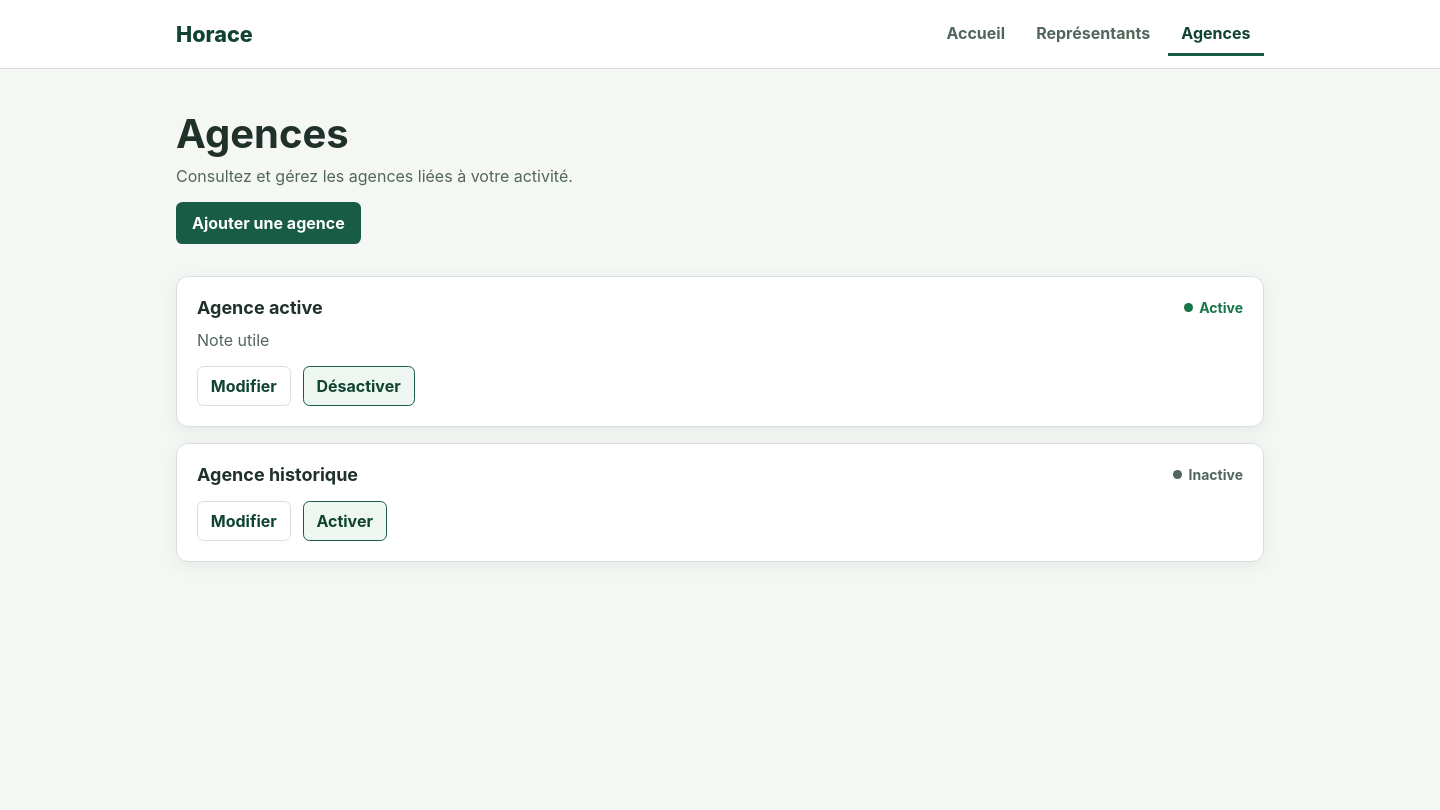
page agences › modifie une agence avec ses valeurs initiales
The width and height of the screenshot is (1440, 810).
Expected: the heading "Agence active" is shown, [197, 297, 323, 318]
Click the button "Modifier" below "Agence active" at (244, 386), box [197, 366, 291, 406]
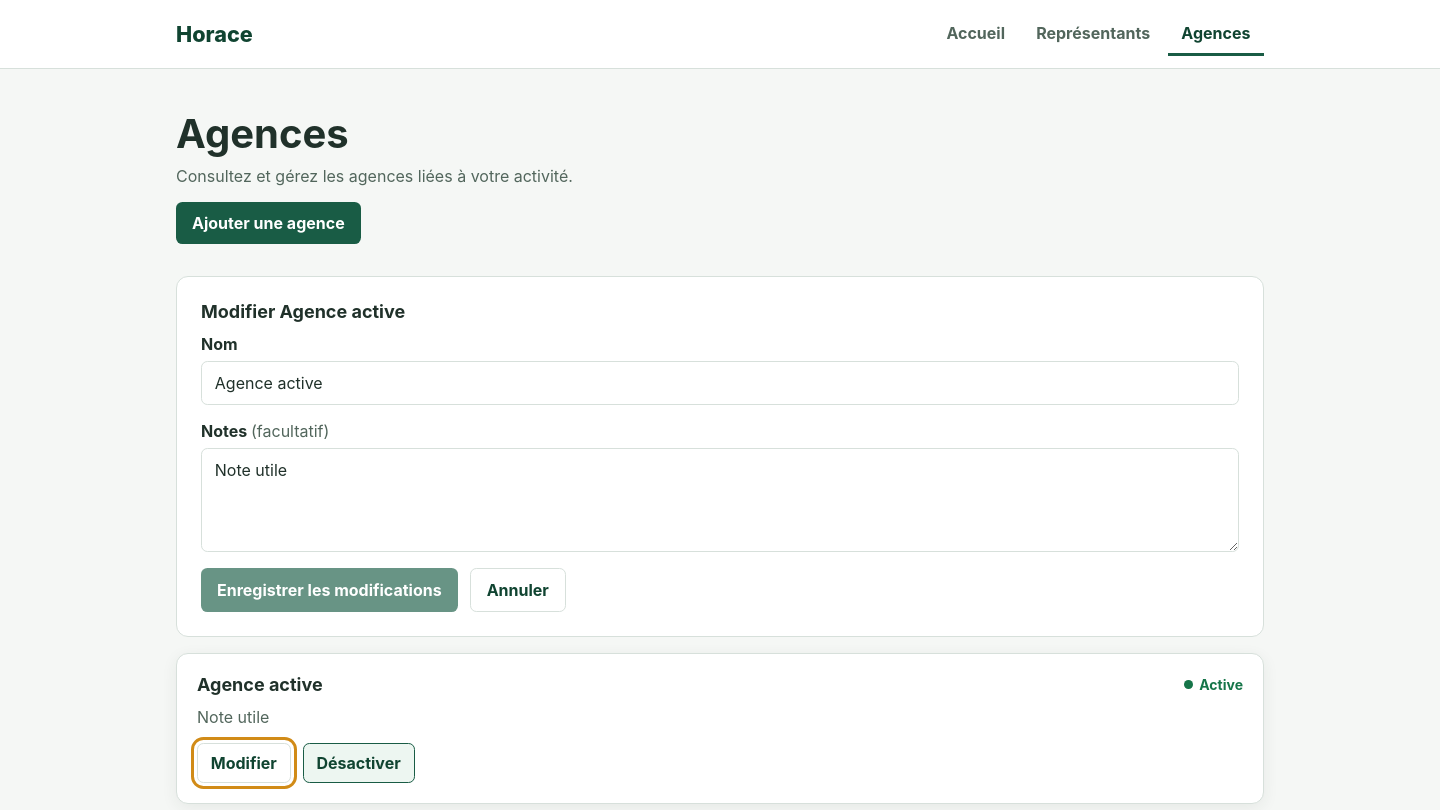
Expected: the field labelled "Nom" holds "Agence active"
Expected: the text box labelled "Notes (facultatif)" holds "Note utile", [201, 448, 1239, 552]
Replace the text in the field labelled "Nom" with "Agence renommée" at (720, 383), box [201, 361, 1239, 405]
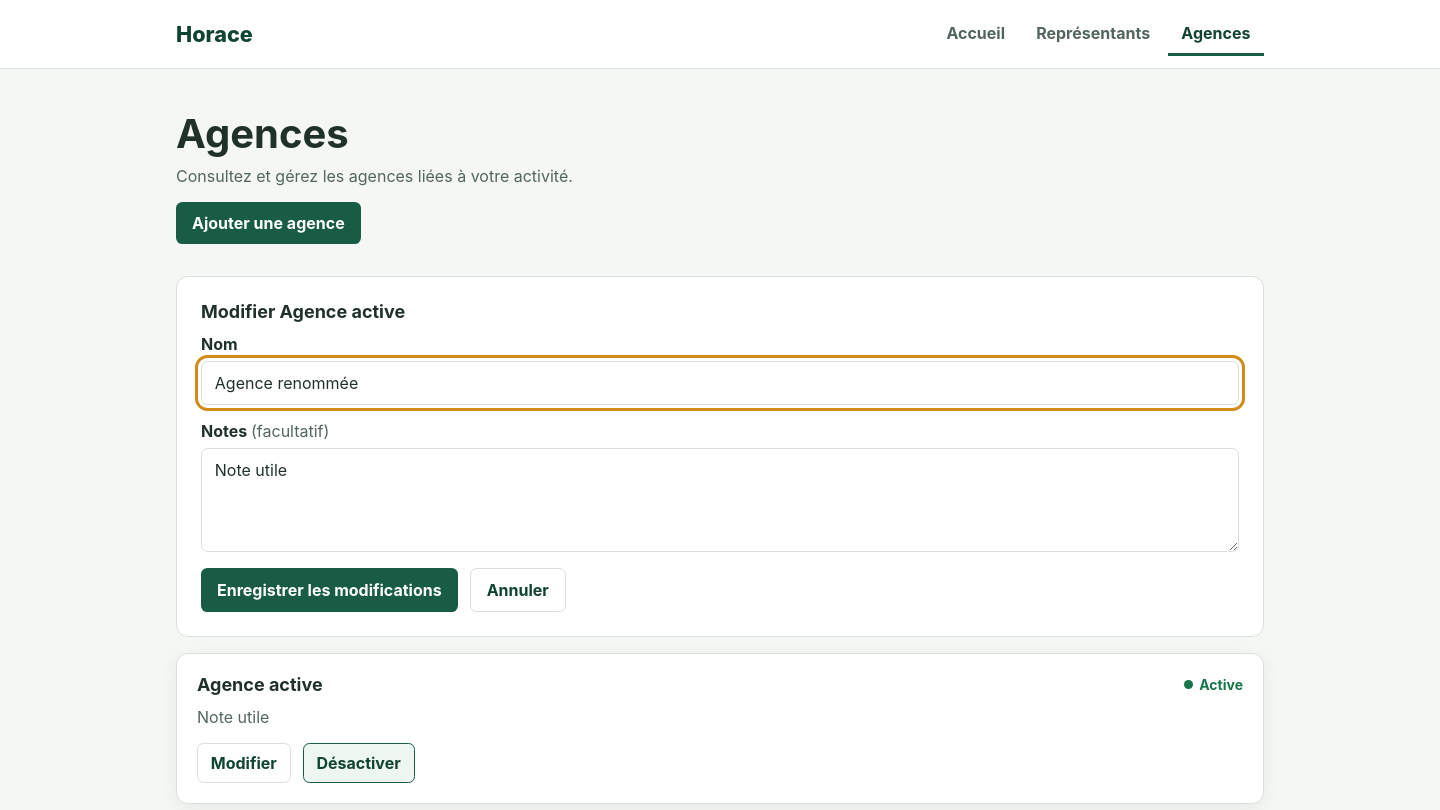
Clear the text box labelled "Notes (facultatif)" at (720, 500), box [201, 448, 1239, 552]
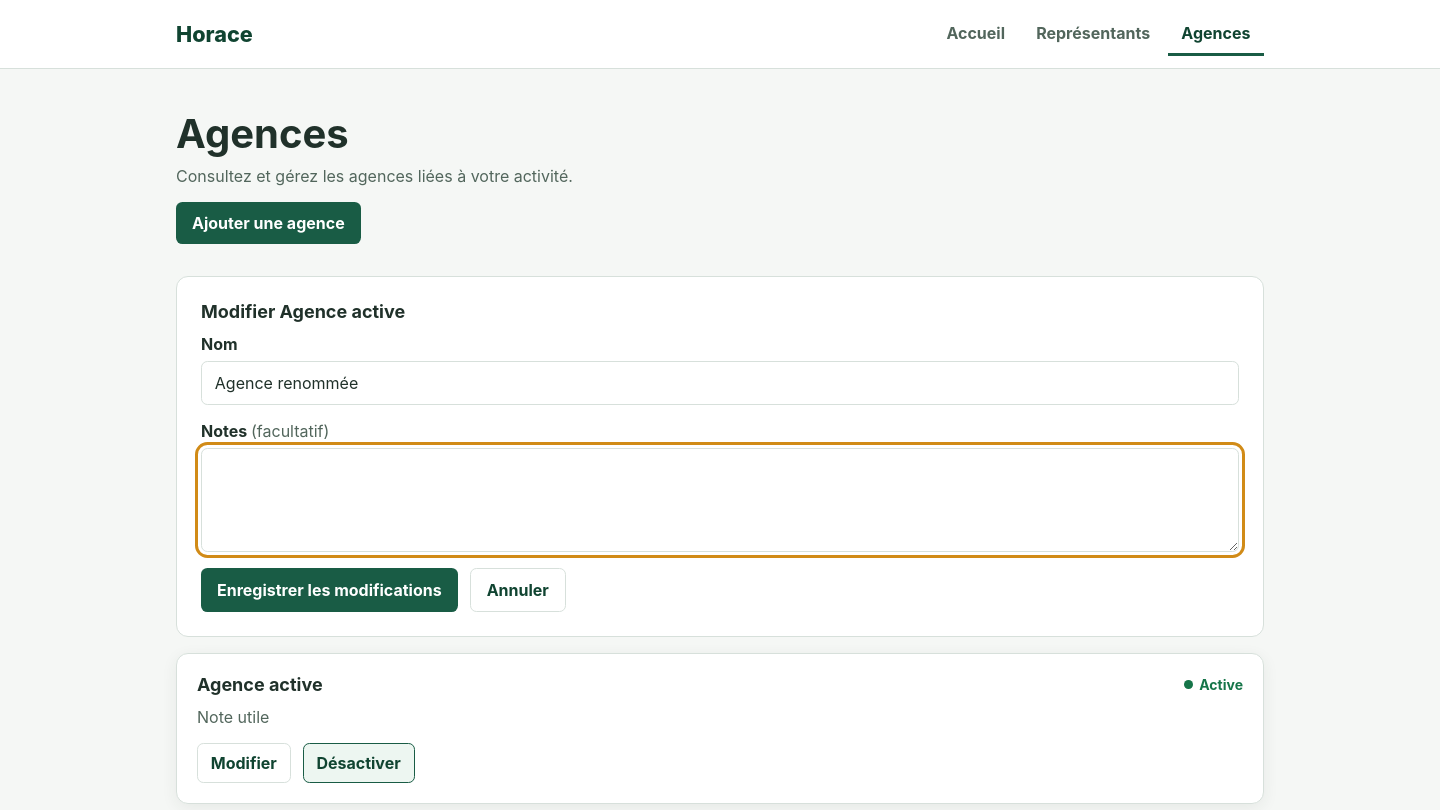
Click the button "Enregistrer les modifications" at (329, 590), box [201, 568, 458, 612]
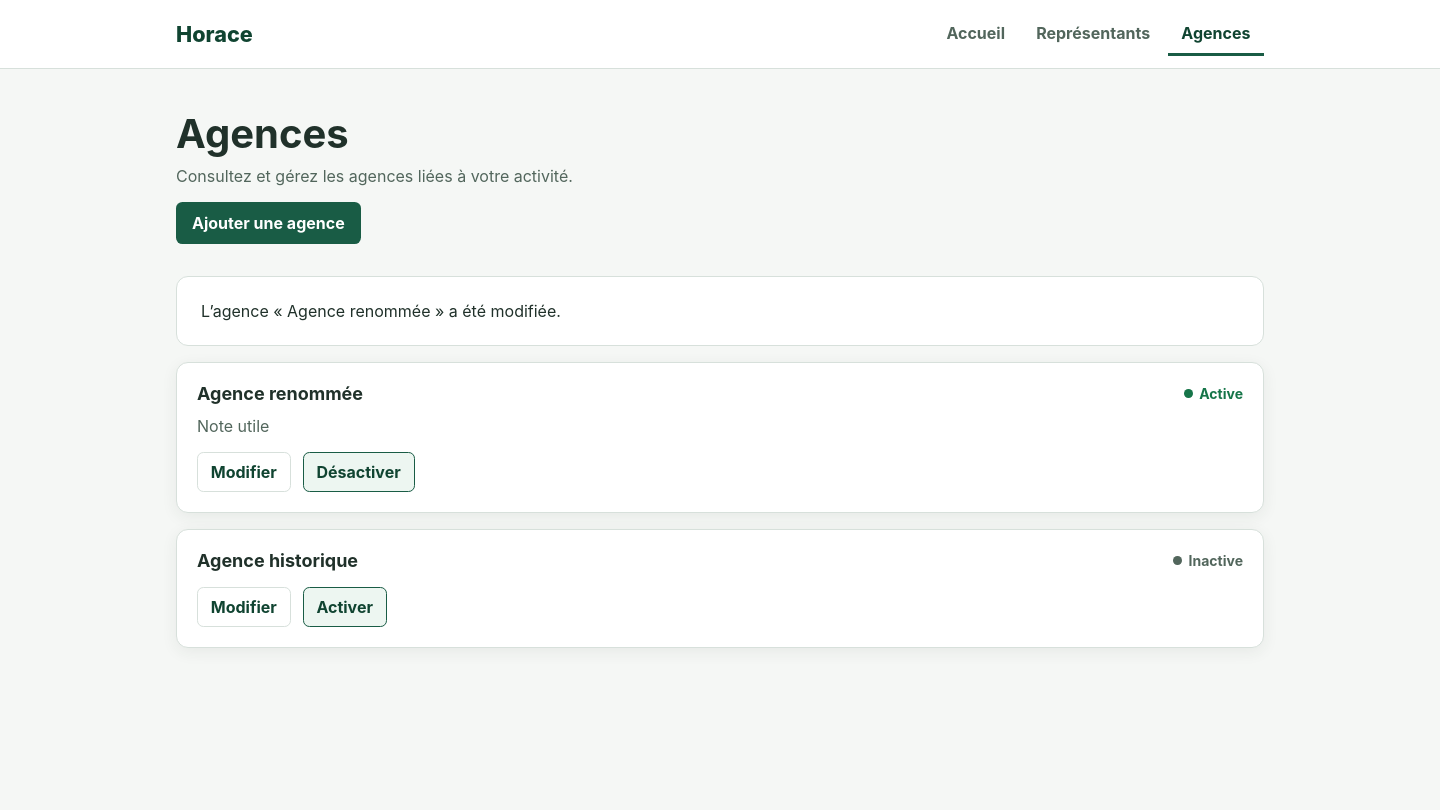
Expected: the text "L’agence « Agence renommée » a été modifiée." is shown, [201, 301, 561, 321]
Expected: the heading "Agence renommée" is shown, [197, 383, 363, 404]
